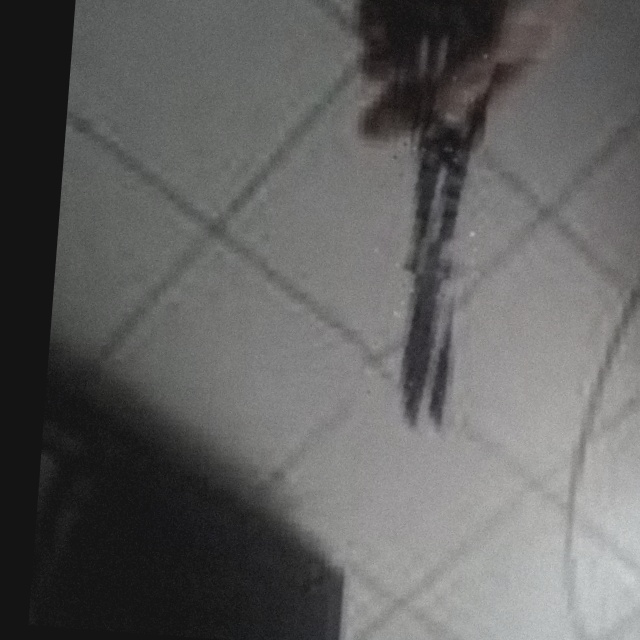Sharp-Object: (362, 0, 496, 434)
